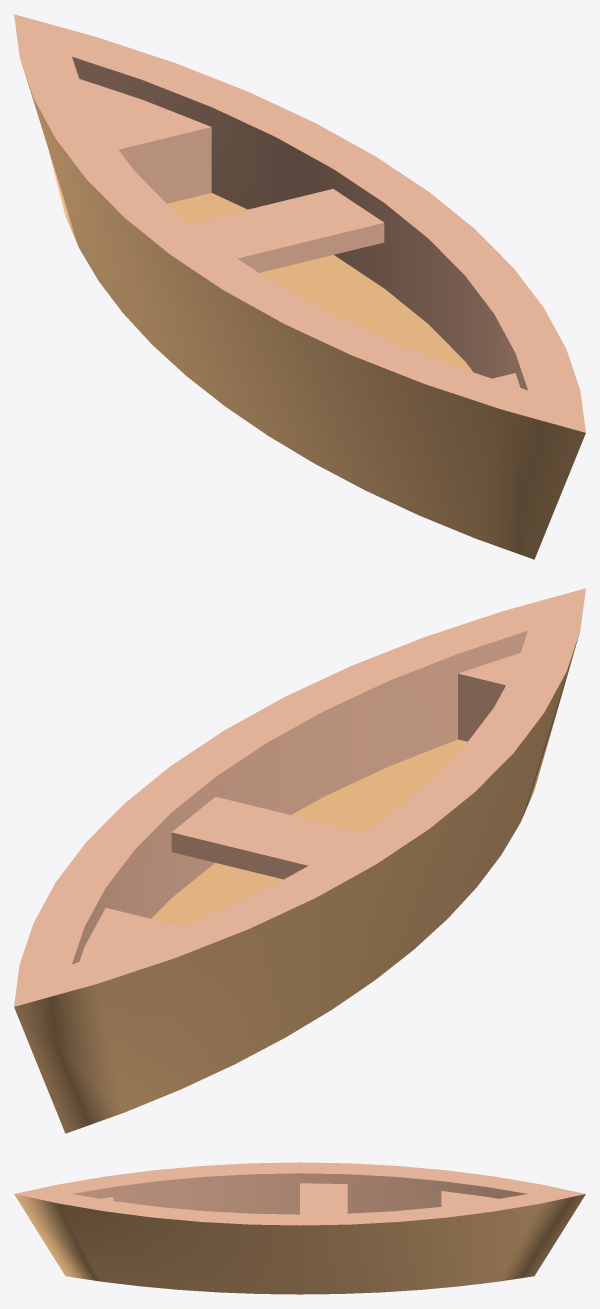
File: canoe.glb
3 views of the same model, one above another, from view 1: azimuth 30°, elevation 25°; view 2: azimuth 150°, elevation 25°; view 3: azimuth 270°, elevation 25° (orthographic). The views are drawn at different scales.
Parts seen in each view (by area): view 1: canoe; view 2: canoe; view 3: canoe.
Part boxes in pixels (<box>): canoe: <box>14,14,585,559</box>; canoe: <box>14,588,585,1133</box>; canoe: <box>14,1162,585,1294</box>.
Bounding box in the file's own units: 0.3 × 0.1825 × 1.15.
